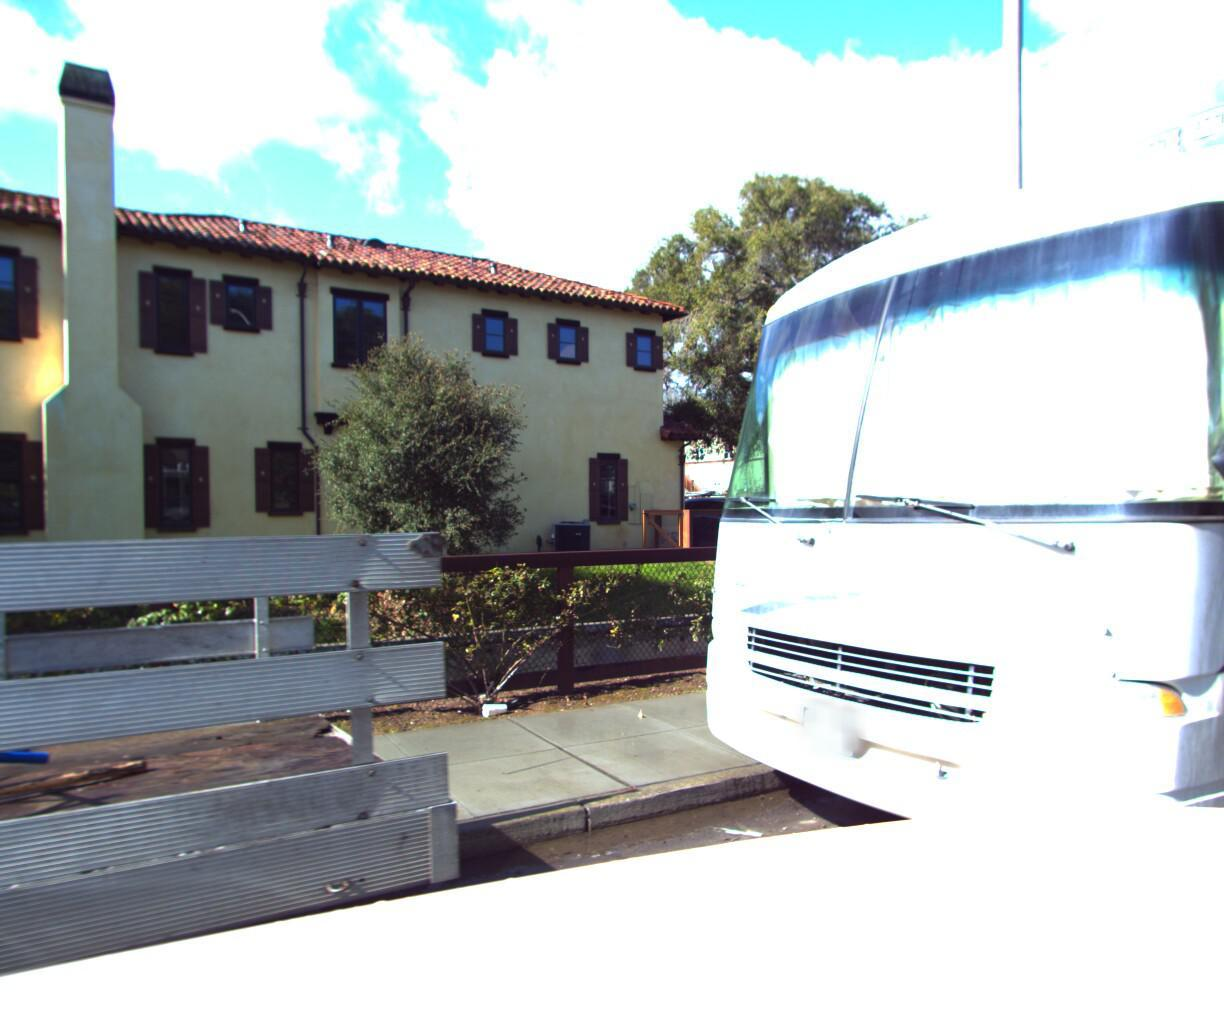other_vehicle: (611, 0, 1224, 1024)
